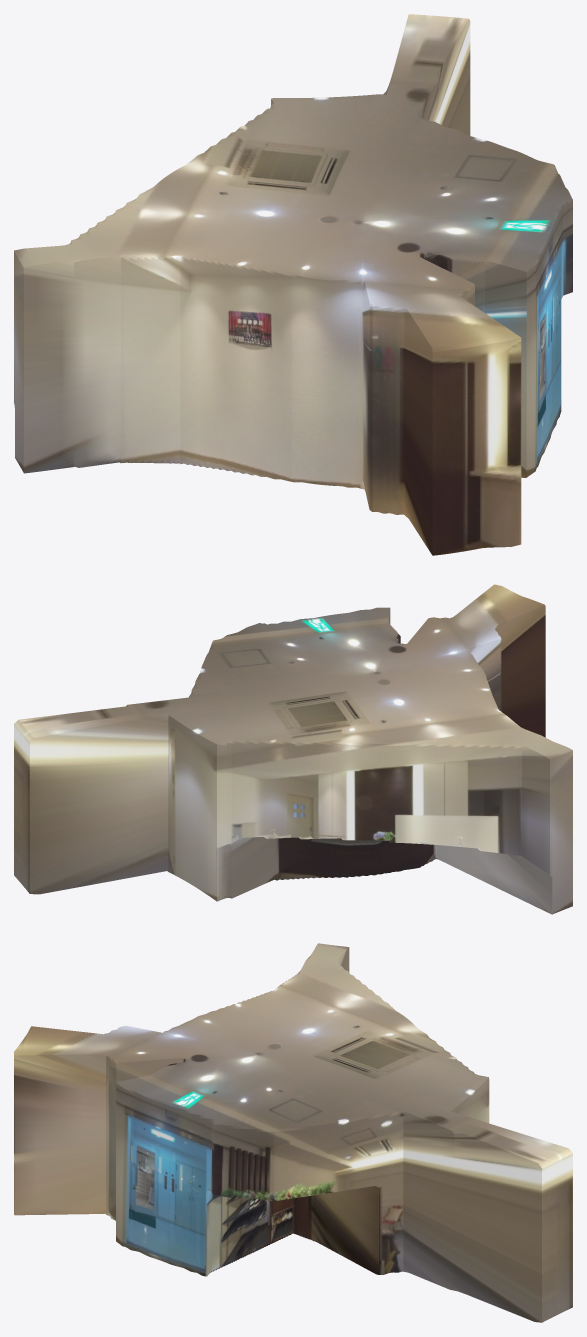
Rendered from reception_vr.glb.
3 views of the same model, one above another, from view 1: azimuth 30°, elevation 25°; view 2: azimuth 150°, elevation 25°; view 3: azimuth 270°, elevation 25° (orthographic). The views are drawn at different scales.
Visible parts, largest first — view 1: PanoRoom; view 2: PanoRoom; view 3: PanoRoom.
Part boxes in pixels (x1,y1,x2,y2): PanoRoom: (14, 14, 572, 555); PanoRoom: (14, 584, 572, 914); PanoRoom: (14, 943, 572, 1322).
Size of the model in its own units: 7.77 by 2.6 by 8.24.
Materials: 1 (1 with a texture image).
